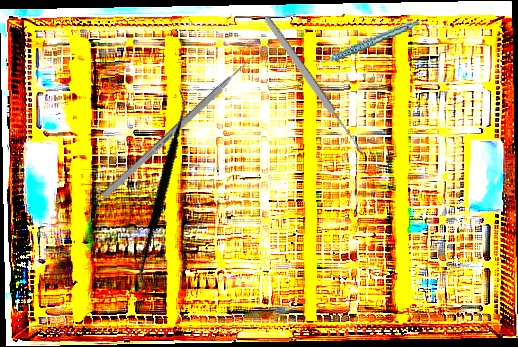Handpiece: (309, 19, 424, 66)
Pusher: (100, 46, 265, 200)
Spatula Surgical: (86, 88, 243, 292)
Surgical Spoon: (262, 14, 365, 156)
